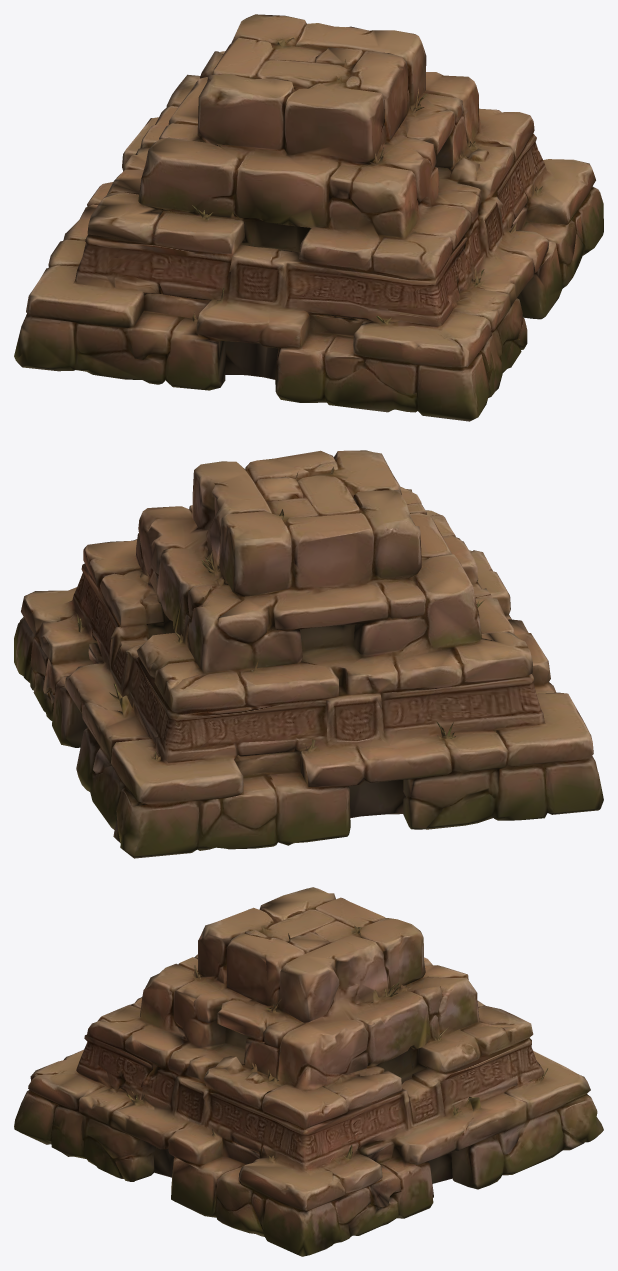
File: propRuin_static.glb
3 views of the same model, one above another, from view 1: azimuth 30°, elevation 25°; view 2: azimuth 150°, elevation 25°; view 3: azimuth 270°, elevation 25° (orthographic). The views are drawn at different scales.
Parts seen in each view (by area): view 1: tripo_node_fd79c6b5-49ff-4f03-9a6d-4761c97c585f; view 2: tripo_node_fd79c6b5-49ff-4f03-9a6d-4761c97c585f; view 3: tripo_node_fd79c6b5-49ff-4f03-9a6d-4761c97c585f.
Boxes of the visible parts, box(x1,y1,x2,y2) form: tripo_node_fd79c6b5-49ff-4f03-9a6d-4761c97c585f: box(14, 14, 603, 421); tripo_node_fd79c6b5-49ff-4f03-9a6d-4761c97c585f: box(14, 450, 603, 858); tripo_node_fd79c6b5-49ff-4f03-9a6d-4761c97c585f: box(14, 887, 603, 1256).
Bounding box in the file's own units: 1.37 × 0.5575 × 1.39.
Materials: 1 (1 with a texture image).
